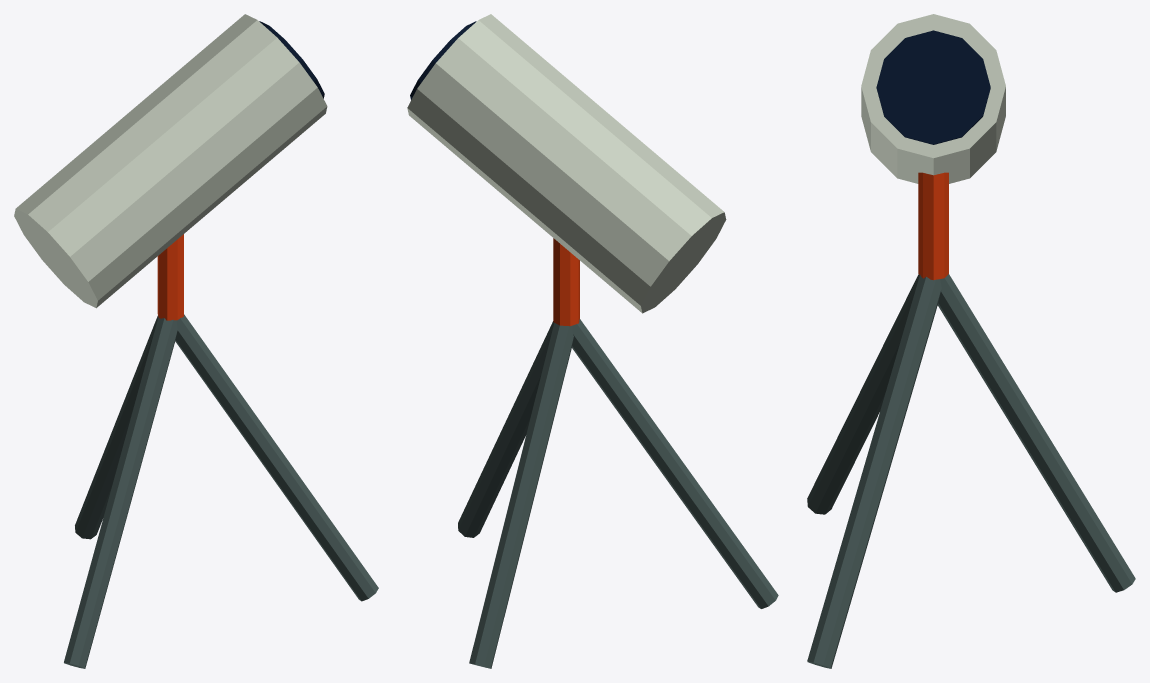
File: SM_MP_Telescope.fbx
The picture shows the model from 3 angles, left to right: view 1: azimuth 30°, elevation 25°; view 2: azimuth 150°, elevation 25°; view 3: azimuth 270°, elevation 25°; orthographic projection. The views are drawn at different scales.
Parts seen in each view (by area): view 1: SM_MP_Telescope; view 2: SM_MP_Telescope; view 3: SM_MP_Telescope.
Boxes of the visible parts, x1=… form: SM_MP_Telescope: x1=14, y1=14, x2=378, y2=668; SM_MP_Telescope: x1=407, y1=14, x2=778, y2=668; SM_MP_Telescope: x1=807, y1=14, x2=1135, y2=668.
Bounding box in the file's own units: 212 × 173 × 362.
1 material, 1 textured.
